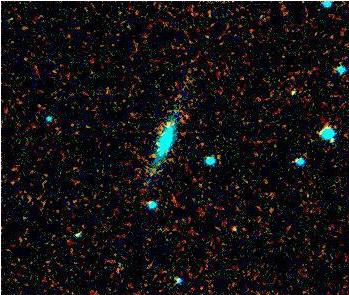star: (316, 124, 346, 154)
